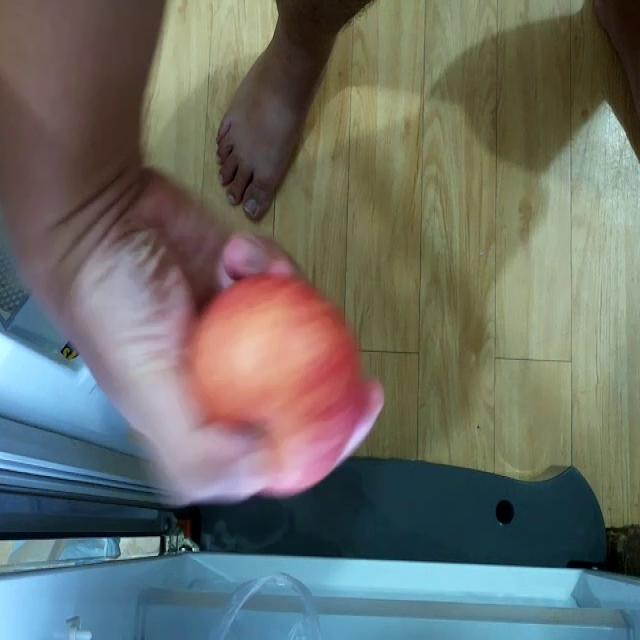apple: (192, 285, 362, 496)
